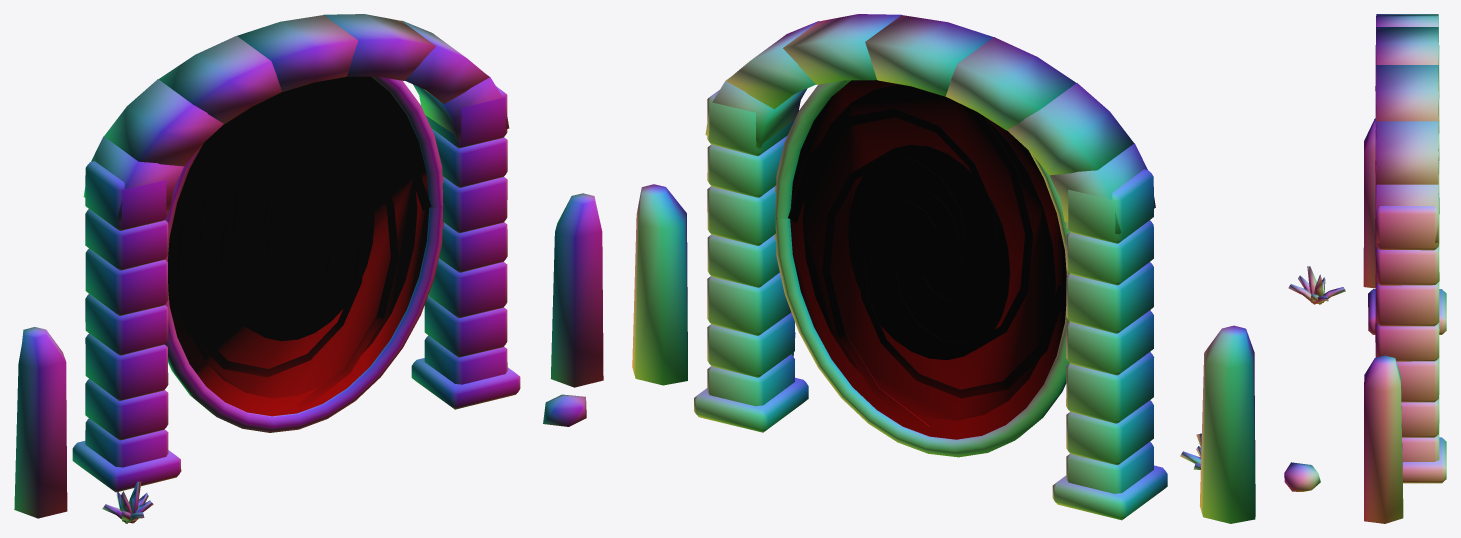
The model's file is SM_Prop_ExitPortal.fbx.
3 renders of one model, left to right at view 1: azimuth 30°, elevation 25°; view 2: azimuth 150°, elevation 25°; view 3: azimuth 270°, elevation 25°, orthographic. The views are drawn at different scales.
Visible parts, largest first — view 1: SM_Prop_ExitPortal; view 2: SM_Prop_ExitPortal; view 3: SM_Prop_ExitPortal.
Part boxes in pixels (bbox=[...]): SM_Prop_ExitPortal: bbox=[14, 14, 603, 523]; SM_Prop_ExitPortal: bbox=[632, 14, 1255, 523]; SM_Prop_ExitPortal: bbox=[1284, 14, 1446, 523].
Size of the model in its own units: 4.06 by 2.63 by 1.08.
